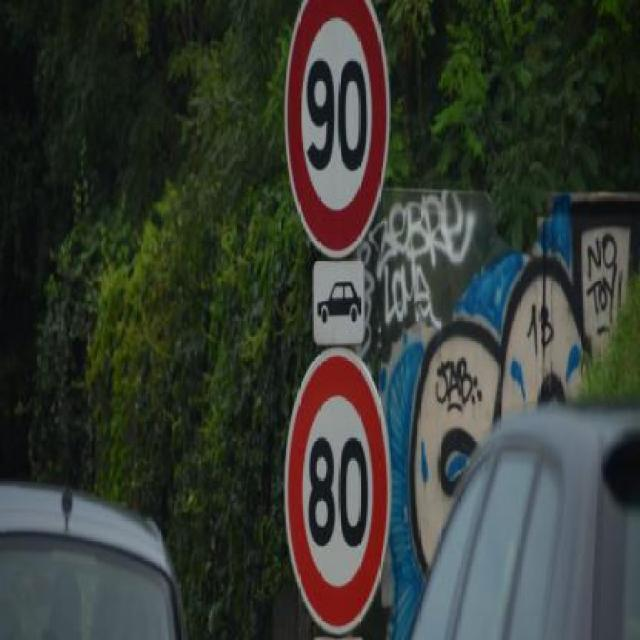Ograniczenie predkosci do 90: (285, 2, 385, 255)
